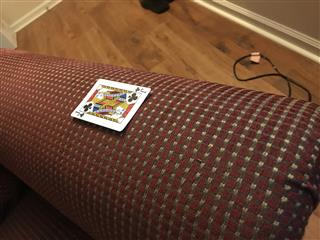JackOfClubs: (69, 78, 151, 132)
